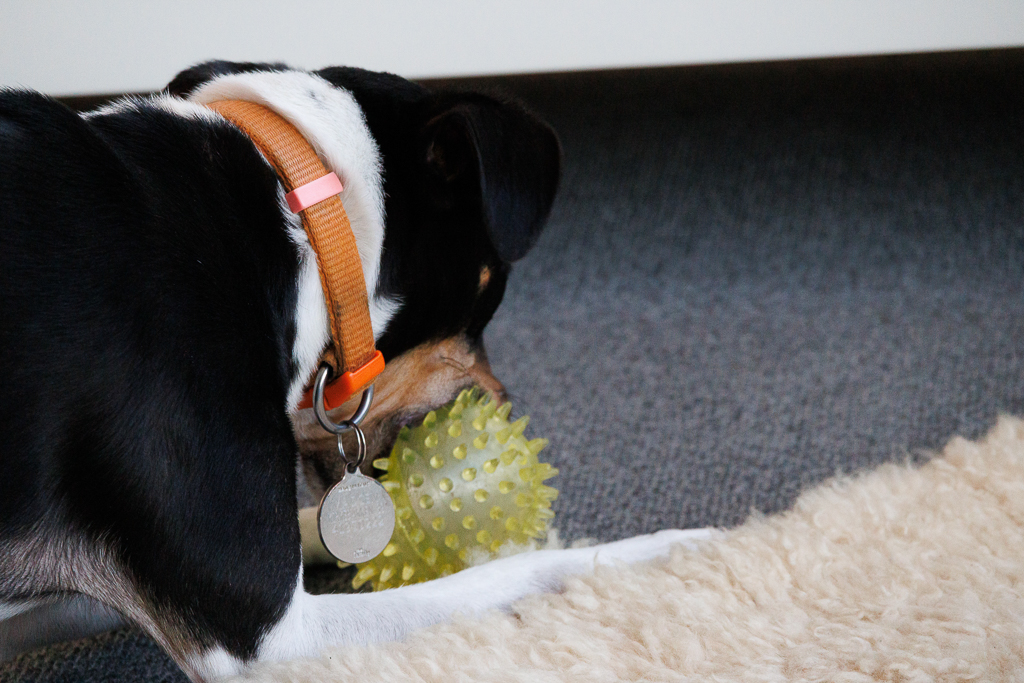Dog: (0, 50, 753, 683)
